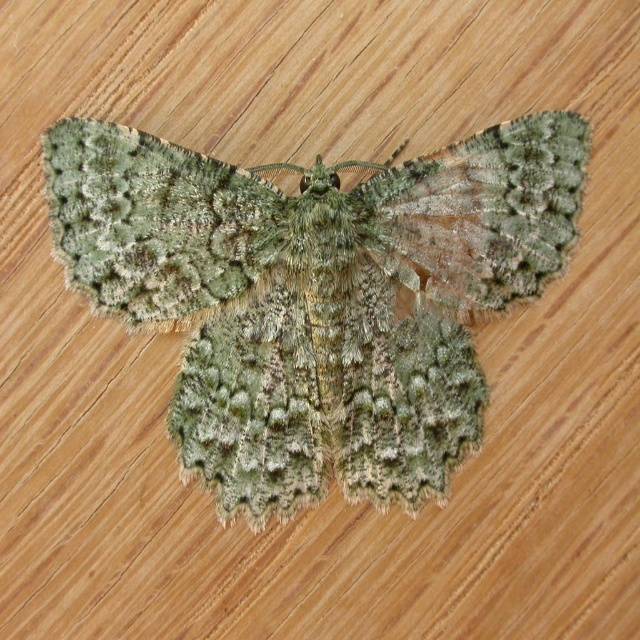Butterfly: (45, 100, 600, 500)
